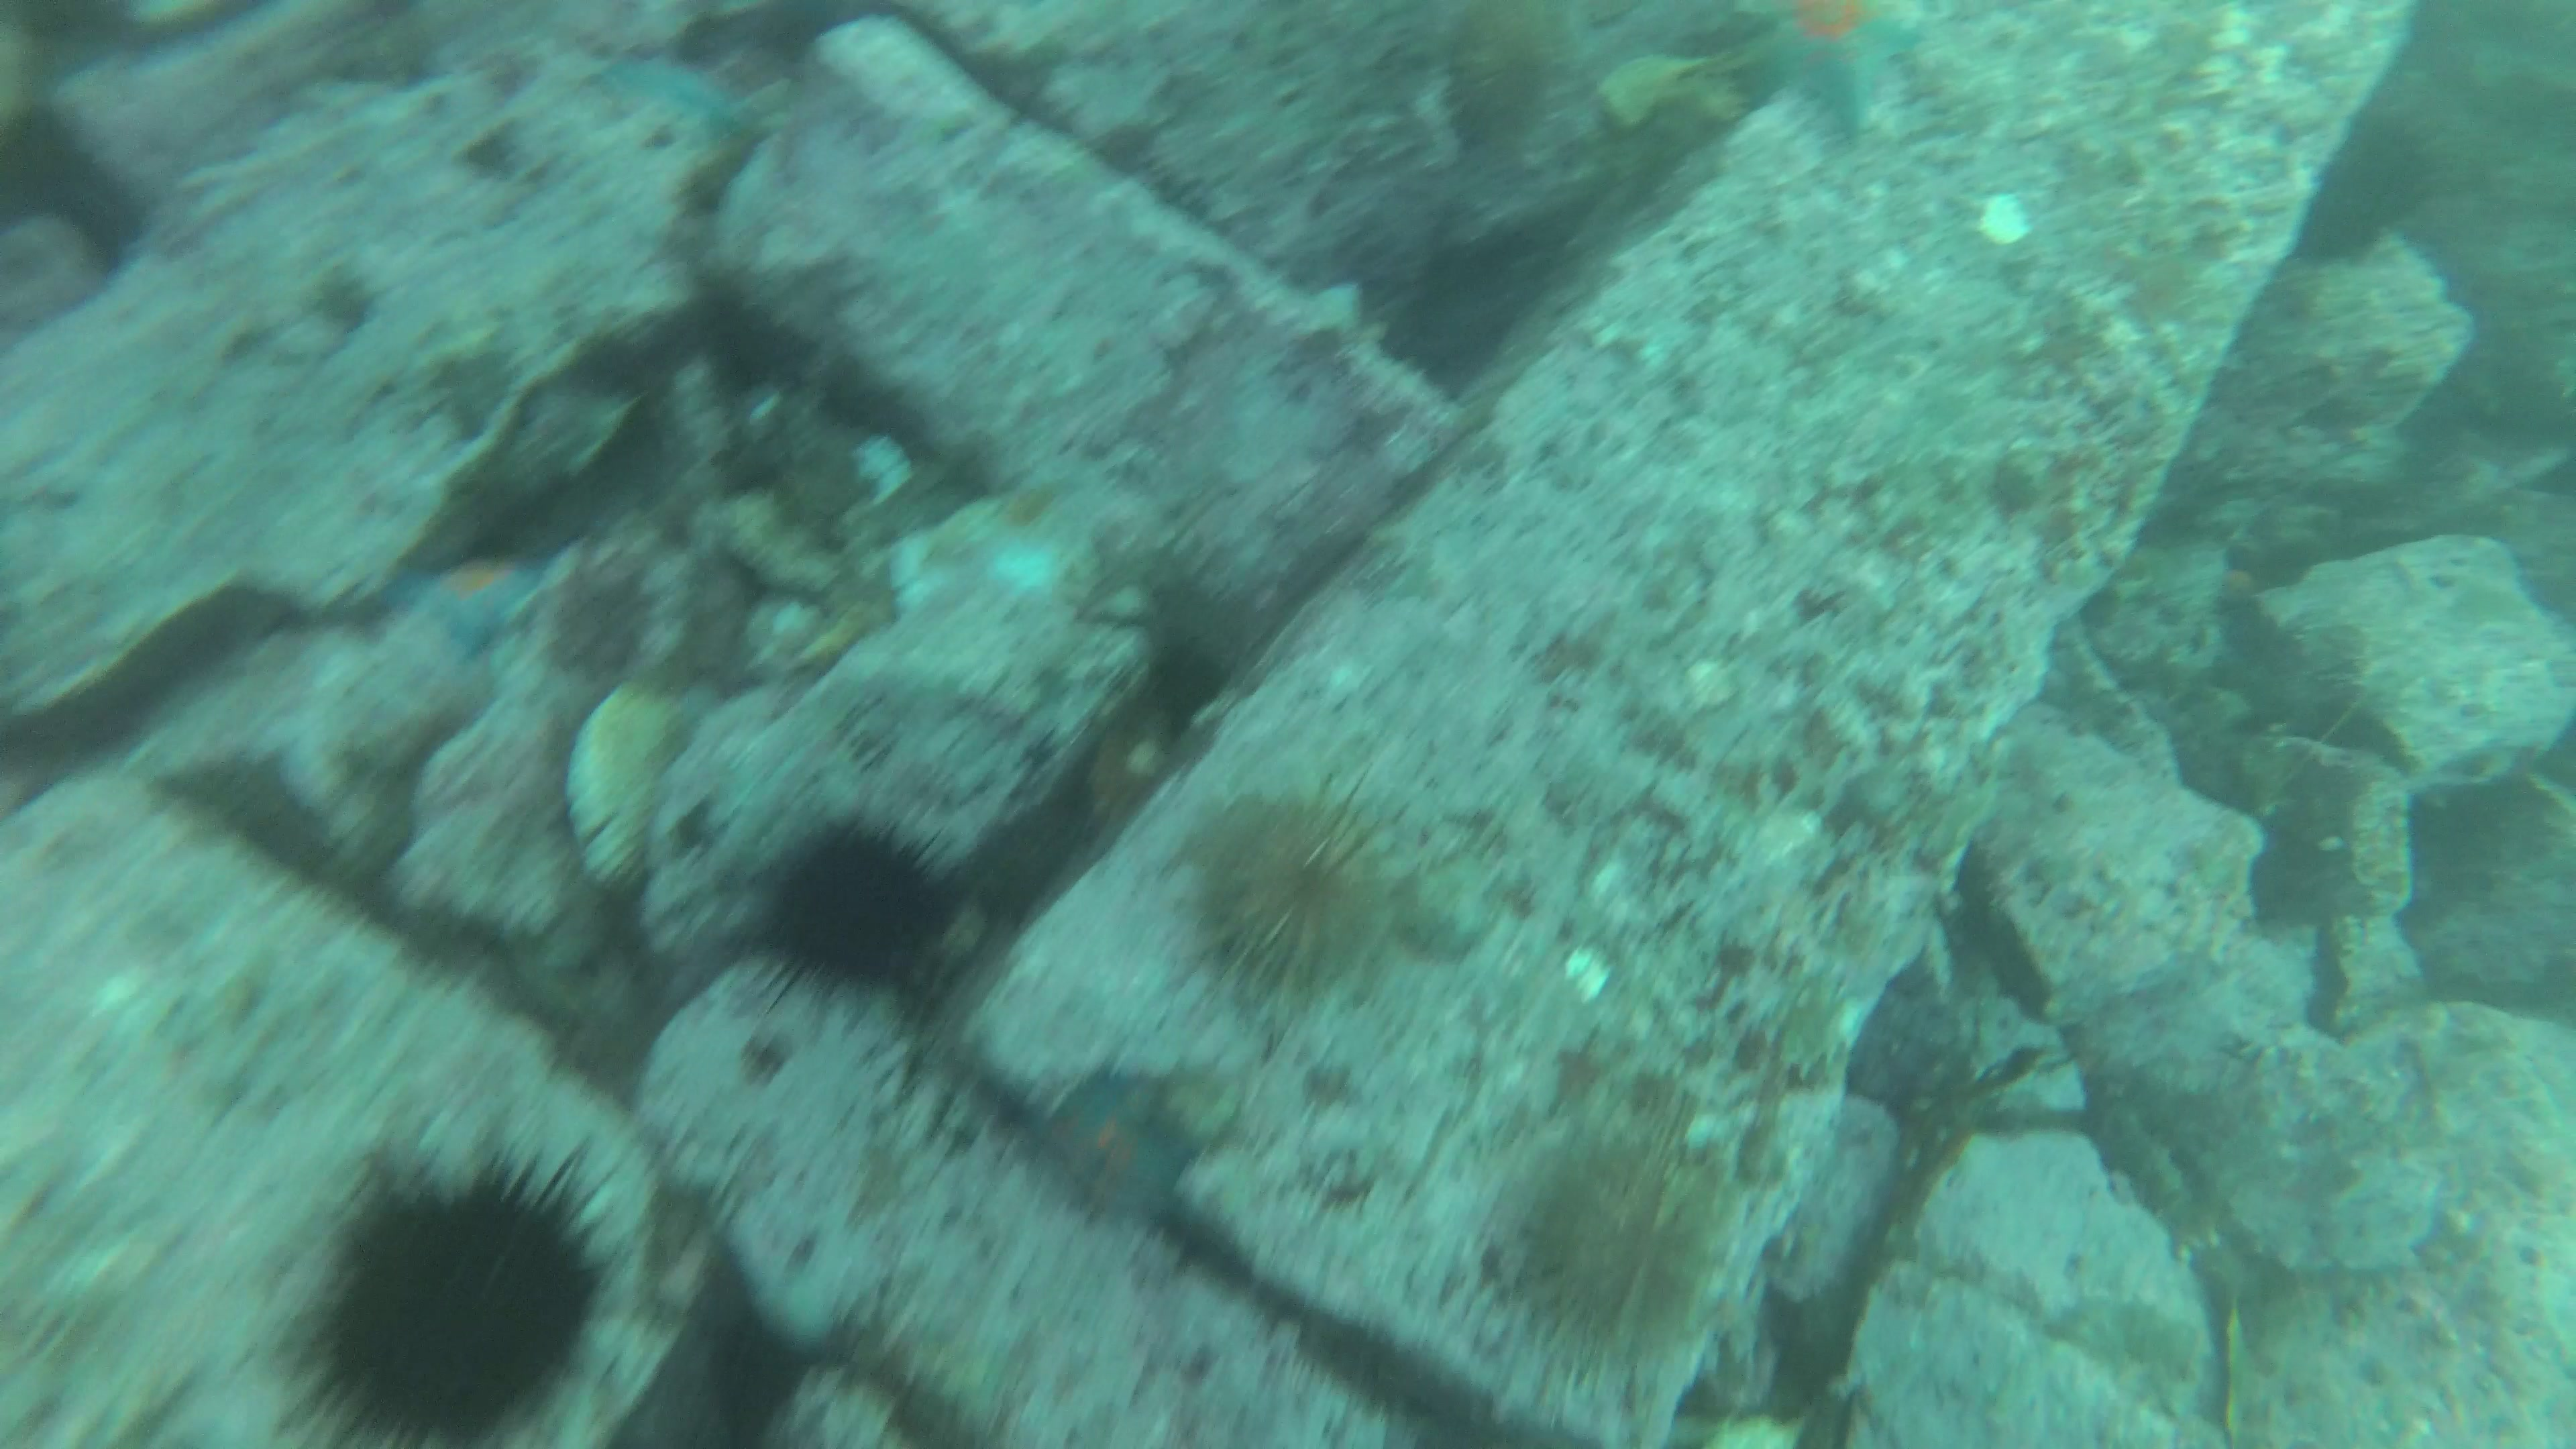echinus: (288, 1157, 625, 1449), (1511, 1131, 1748, 1357), (1201, 800, 1405, 994), (757, 816, 952, 1001)
scallop: (563, 678, 706, 883)
starfish: (1748, 0, 1932, 103), (386, 547, 547, 649), (609, 39, 755, 126)
